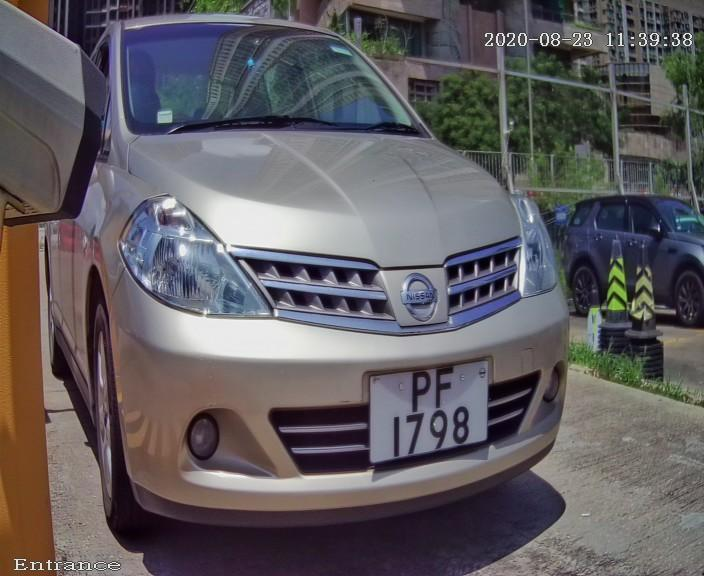License Plate: (362, 353, 500, 474)
